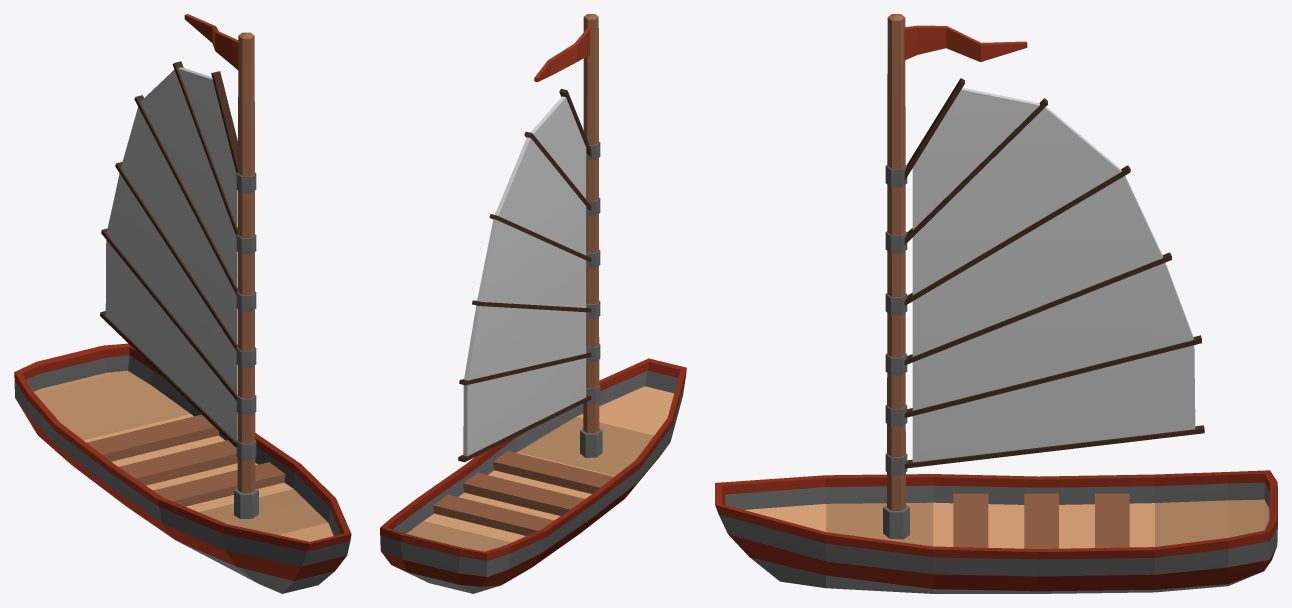
Rendered from chinese-boat.glb.
3 renders of one model, left to right at view 1: azimuth 30°, elevation 25°; view 2: azimuth 150°, elevation 25°; view 3: azimuth 270°, elevation 25°, orthographic. The views are drawn at different scales.
Parts seen in each view (by area): view 1: chinese boat; view 2: chinese boat; view 3: chinese boat.
Part boxes in pixels (x1,y1,x2,y2): chinese boat: (14, 14, 351, 593); chinese boat: (380, 14, 686, 593); chinese boat: (715, 14, 1277, 593).
Bounding box in the file's own units: 2.45 × 8.58 × 7.7.
Materials: 1 (1 with a texture image).
